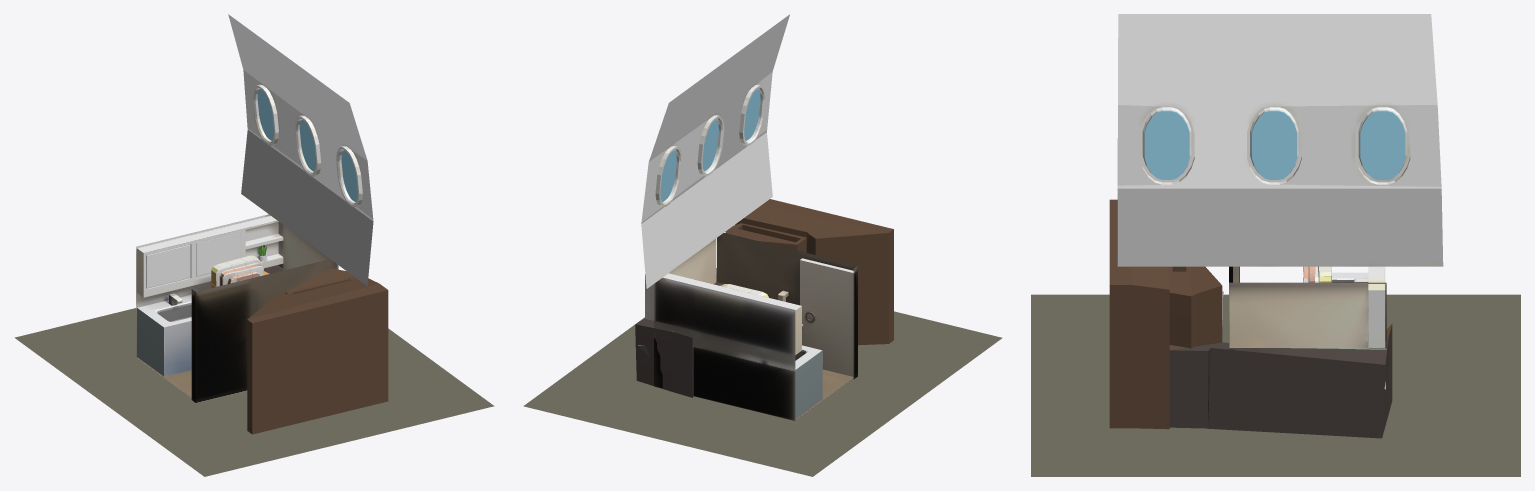
File: equipment-introduction.glb
3 views of the same model, side by side, from view 1: azimuth 30°, elevation 25°; view 2: azimuth 150°, elevation 25°; view 3: azimuth 270°, elevation 25° (orthographic). The views are drawn at different scales.
Parts seen in each view (by area): view 1: A350_Nose_plane, A350_Nose_wall, FC_01A_wall2, LAV_wall.005, LAV_wall.004, window, Chair_FC_chair_back; view 2: A350_Nose_plane, LAV_wall.005, A350_Nose_wall, FC_01A_wall2, LAV_wall.004, window; view 3: A350_Nose_wall, A350_Nose_plane, FC_01A_wall2, LAV_wall.005, window.
Part boxes in pixels (x1,y1,x2,y2): A350_Nose_plane: (14, 308, 494, 476); A350_Nose_wall: (228, 14, 373, 286); FC_01A_wall2: (247, 265, 388, 434); LAV_wall.005: (136, 214, 338, 402); LAV_wall.004: (137, 293, 191, 376); window: (257, 89, 357, 201); Chair_FC_chair_back: (211, 255, 260, 287); A350_Nose_plane: (523, 268, 1002, 476); LAV_wall.005: (645, 233, 857, 420); A350_Nose_wall: (641, 14, 789, 288); FC_01A_wall2: (635, 199, 893, 397); LAV_wall.004: (638, 345, 822, 418); window: (660, 89, 760, 201); A350_Nose_wall: (1117, 14, 1443, 266); A350_Nose_plane: (1031, 294, 1520, 476); FC_01A_wall2: (1109, 199, 1392, 438); LAV_wall.005: (1229, 266, 1386, 426); window: (1144, 110, 1405, 179).
Bounding box in the file's own units: 1.92 × 1.94 × 2.18.
31 materials, 17 textured.
